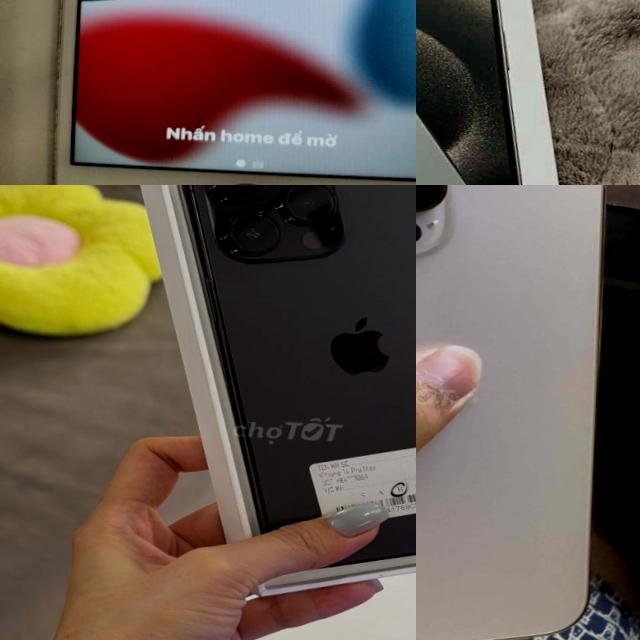gen_12_13: (416, 185, 620, 640)
gen_14: (153, 185, 416, 591)
gen_15: (416, 0, 601, 185)
gen_6: (44, 0, 416, 185)
